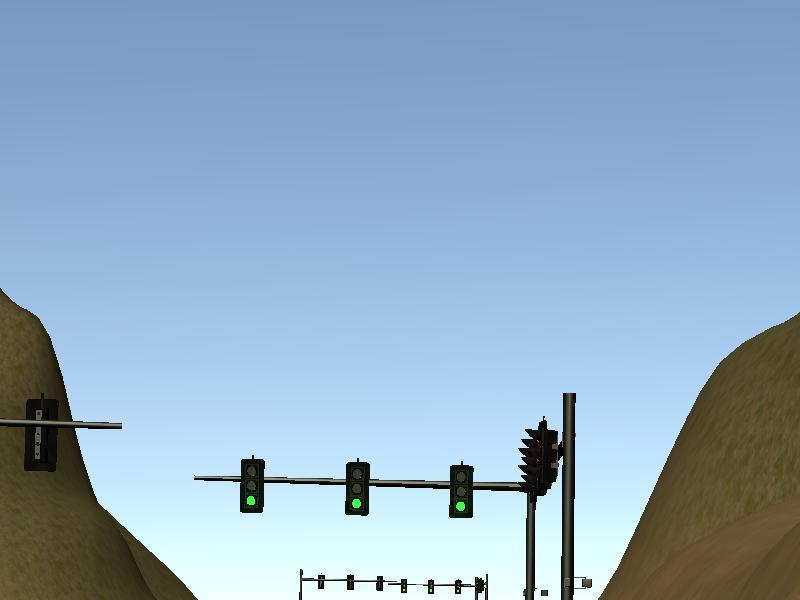Green: (240, 459, 265, 513), (449, 465, 474, 519), (345, 462, 370, 516)
